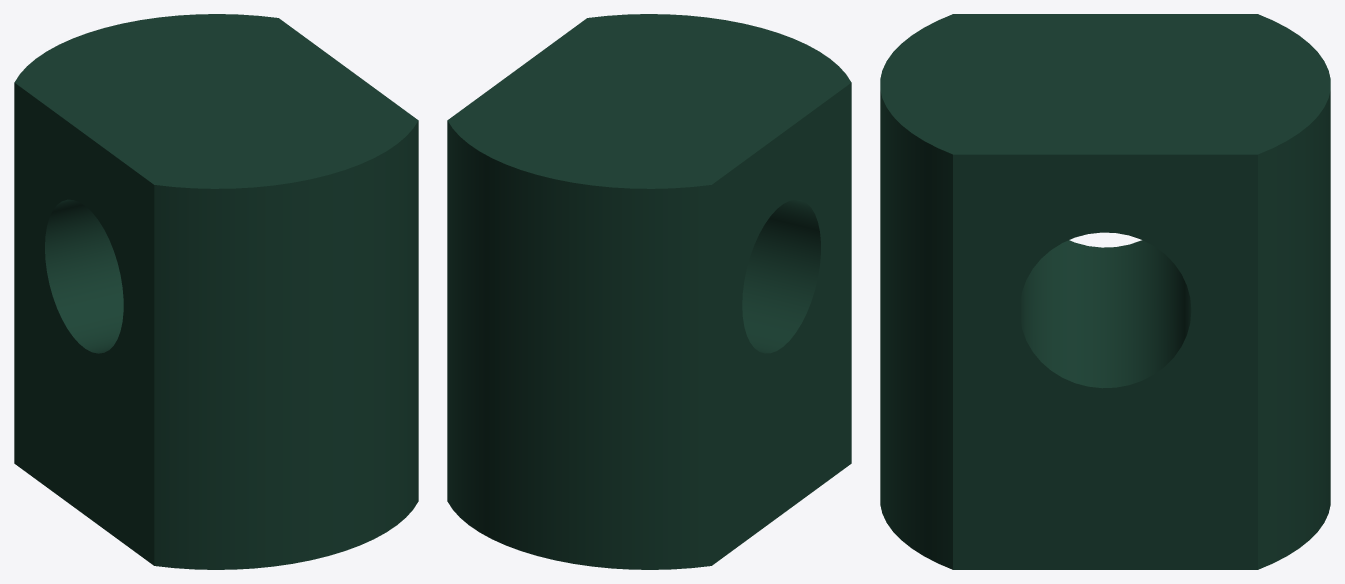
File: body1_visual.obj
The picture shows the model from 3 angles, left to right: view 1: azimuth 30°, elevation 25°; view 2: azimuth 150°, elevation 25°; view 3: azimuth 270°, elevation 25°; orthographic projection. The views are drawn at different scales.
Visible parts, largest first — view 1: Body1; view 2: Body1; view 3: Body1.
Boxes of the visible parts, x1,y1,x2,y2 form: Body1: [14, 14, 418, 569]; Body1: [447, 14, 851, 569]; Body1: [880, 14, 1330, 569].
Bounding box in the file's own units: 1.16 × 1.6 × 1.57.
